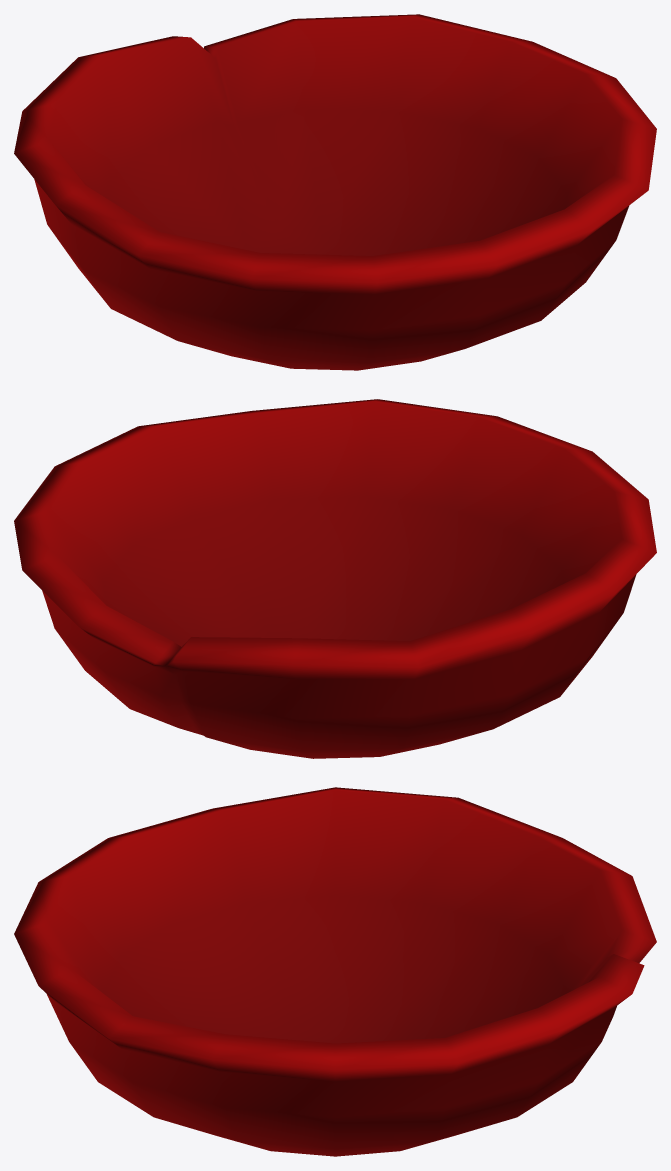
File: CeramicPot004.glb
3 renders of one model, top to bottom at view 1: azimuth 30°, elevation 25°; view 2: azimuth 150°, elevation 25°; view 3: azimuth 270°, elevation 25°, orthographic.
Visible parts, largest first — view 1: CeramicPot004; view 2: CeramicPot004; view 3: CeramicPot004.
Part boxes in pixels (x1,y1,x2,y2): CeramicPot004: (14, 14, 656, 370); CeramicPot004: (14, 399, 656, 758); CeramicPot004: (14, 787, 656, 1156).
Bounding box in the file's own units: 2.54 × 0.8603 × 2.54.
